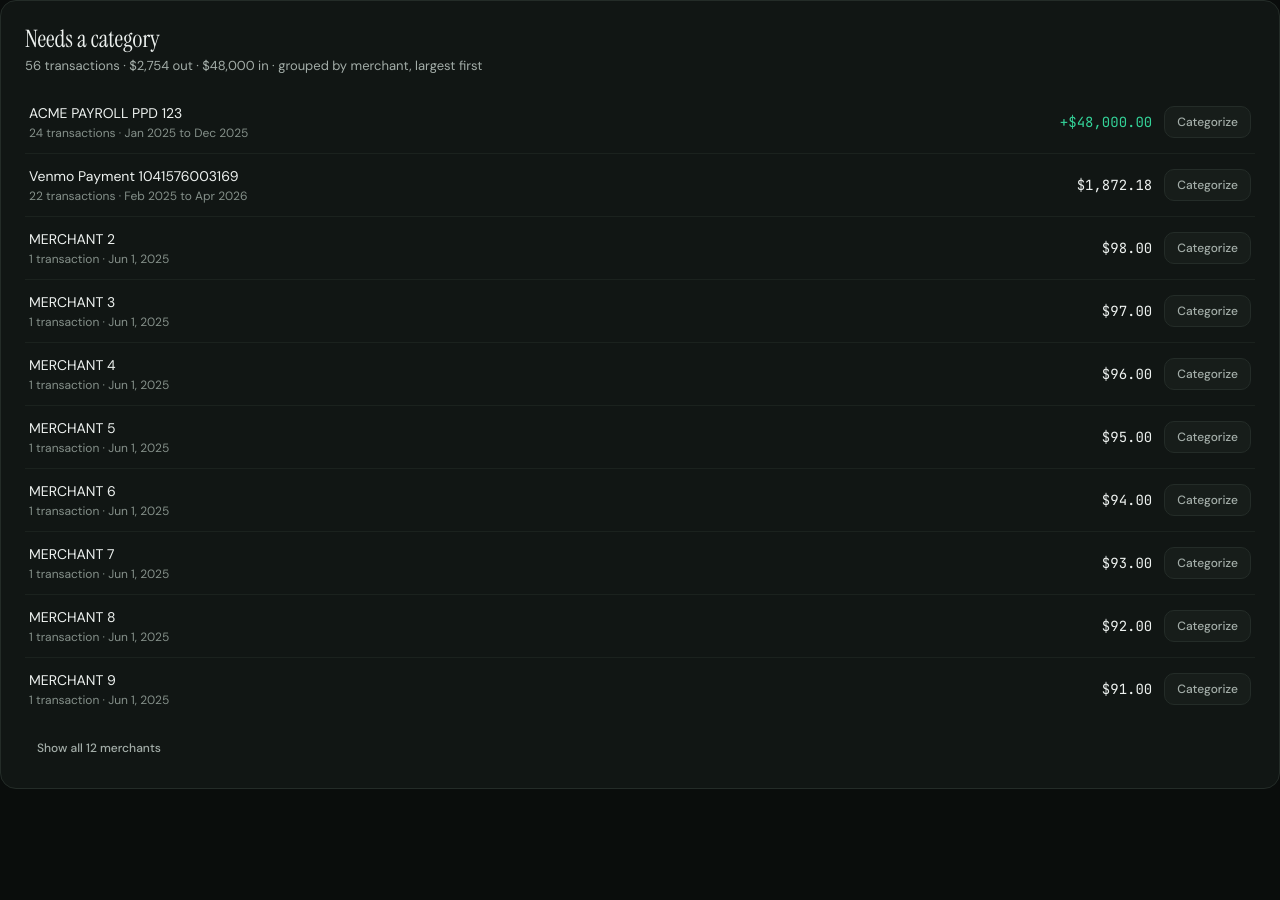
it: NeedsCategoryCard › opens the picker for a group's newest transaction
Click the button with aria-label "Categorize ACME PAYROLL PPD 123".
click(106, 113)  # box [25, 91, 1255, 153]
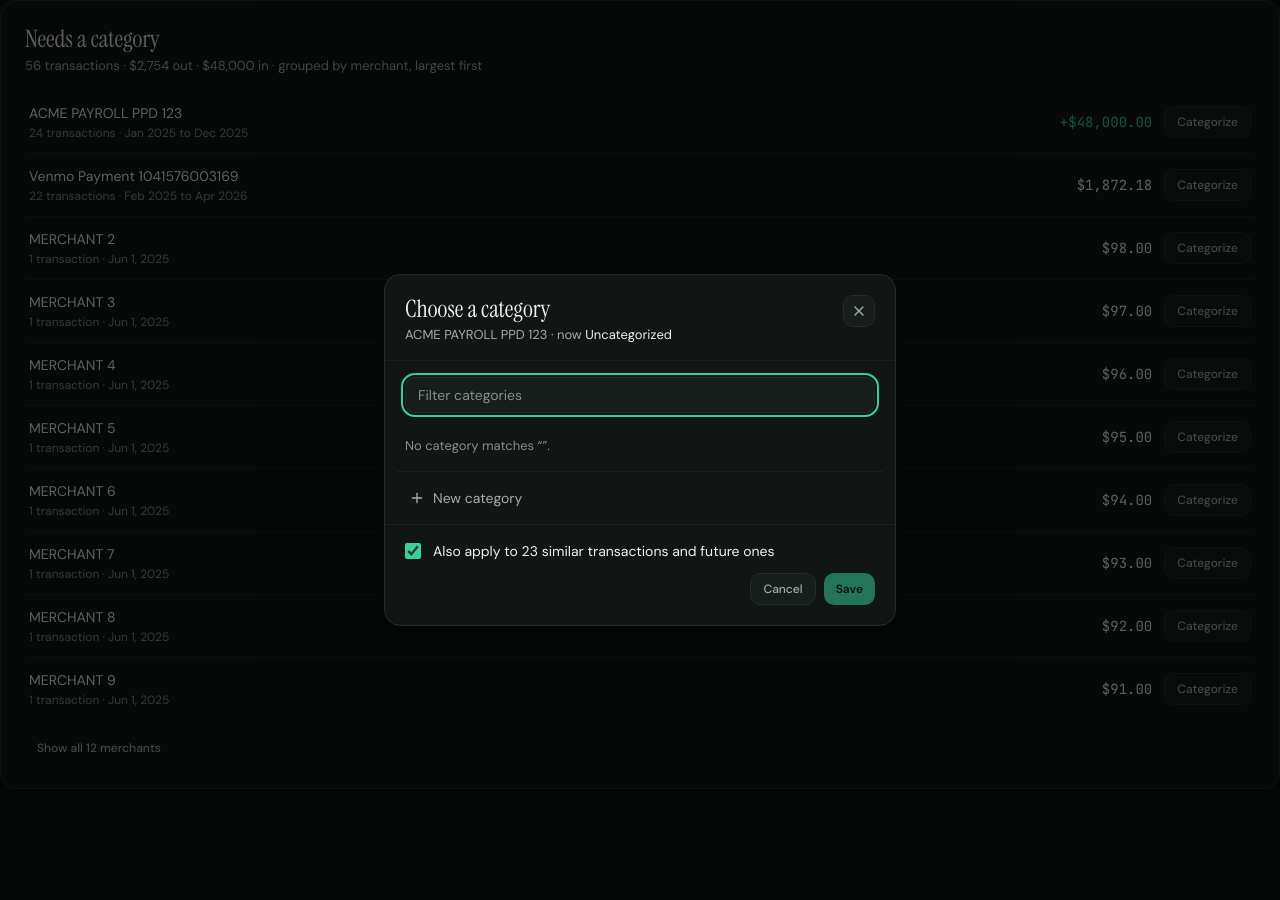
Check: the dialog "Choose a category" is shown, box [384, 274, 896, 626]
Check: the checkbox labelled "Also apply to 23 similar transactions and future ones" is shown, box [405, 544, 421, 560]
